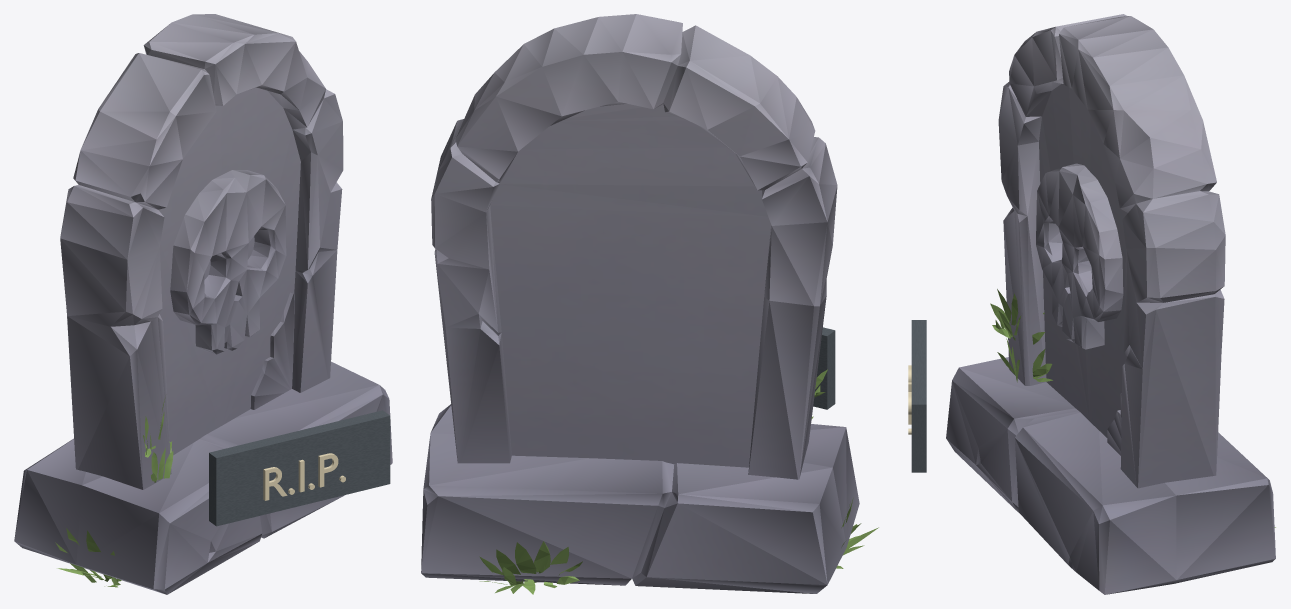
File: EVHalloween_Decor_TombstoneRIP.fbx
3 views of the same model, side by side, from view 1: azimuth 30°, elevation 25°; view 2: azimuth 150°, elevation 25°; view 3: azimuth 270°, elevation 25° (orthographic). The views are drawn at different scales.
Parts seen in each view (by area): view 1: EVHalloween_Decor_TombstoneRIP; view 2: EVHalloween_Decor_TombstoneRIP; view 3: EVHalloween_Decor_TombstoneRIP.
Boxes of the visible parts, x1,y1,x2,y2 form: EVHalloween_Decor_TombstoneRIP: [14, 14, 392, 594]; EVHalloween_Decor_TombstoneRIP: [421, 14, 878, 594]; EVHalloween_Decor_TombstoneRIP: [908, 14, 1275, 594].
Size of the model in its own units: 50.81 by 65 by 44.1.
